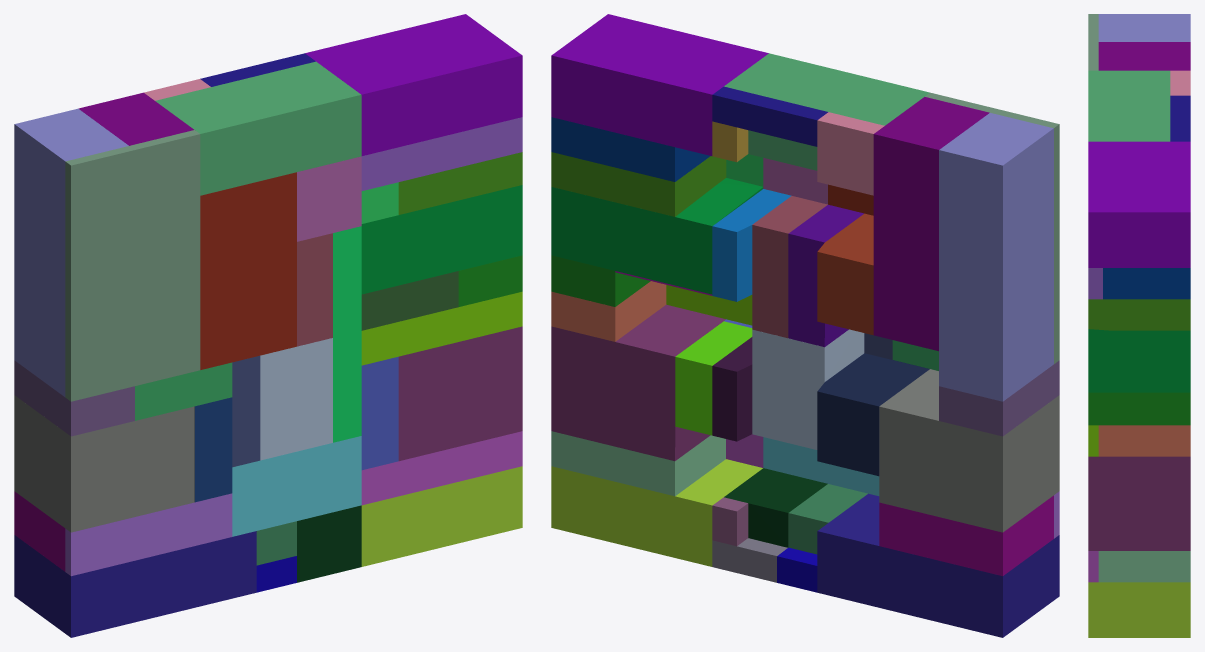
Rendered from board_1_0_canonical.obj.
The picture shows the model from 3 angles, left to right: view 1: azimuth 30°, elevation 25°; view 2: azimuth 150°, elevation 25°; view 3: azimuth 270°, elevation 25°; orthographic projection. The views are drawn at different scales.
Parts seen in each view (by area): view 1: geometry_0, geometry_32, geometry_35, geometry_3, geometry_15, geometry_12, geometry_18, geometry_28, geometry_33, geometry_34, geometry_2, geometry_6 (+22 smaller); view 2: geometry_12, geometry_35, geometry_32, geometry_18, geometry_28, geometry_11, geometry_33, geometry_34, geometry_3, geometry_6, geometry_14, geometry_21 (+28 smaller); view 3: geometry_32, geometry_28, geometry_33, geometry_3, geometry_34, geometry_8, geometry_30, geometry_9, geometry_39, geometry_42, geometry_11, geometry_12 (+6 smaller).
Boxes of the visible parts, box(x1,y1,x2,y2) form: geometry_0: box(65, 130, 200, 401); geometry_32: box(305, 14, 522, 155); geometry_35: box(14, 395, 194, 532); geometry_3: box(155, 61, 361, 195); geometry_15: box(200, 172, 296, 369); geometry_12: box(14, 108, 128, 396); geometry_18: box(14, 531, 256, 637); geometry_28: box(398, 326, 522, 461); geometry_33: box(361, 185, 522, 294); geometry_34: box(361, 466, 522, 566); geometry_2: box(232, 436, 361, 536); geometry_6: box(260, 338, 332, 460); geometry_12: box(939, 113, 1053, 401); geometry_35: box(879, 369, 1059, 532); geometry_32: box(551, 14, 768, 155); geometry_18: box(817, 493, 1059, 637); geometry_28: box(551, 304, 725, 461); geometry_11: box(873, 97, 989, 351); geometry_33: box(551, 178, 763, 294); geometry_34: box(551, 459, 762, 566); geometry_3: box(724, 53, 929, 170); geometry_6: box(752, 329, 864, 449); geometry_14: box(879, 495, 1053, 576); geometry_21: box(817, 353, 929, 476); geometry_32: box(1088, 141, 1190, 267); geometry_28: box(1088, 456, 1190, 550); geometry_33: box(1088, 329, 1190, 392); geometry_3: box(1088, 70, 1170, 141); geometry_34: box(1088, 582, 1190, 637); geometry_8: box(1088, 392, 1190, 425); geometry_30: box(1088, 299, 1190, 330); geometry_9: box(1098, 425, 1190, 456); geometry_39: box(1098, 551, 1190, 582); geometry_42: box(1103, 268, 1190, 299); geometry_11: box(1098, 42, 1190, 70); geometry_12: box(1098, 14, 1190, 41).
Bounding box in the file's own units: 0.23 × 0.23 × 0.05.
